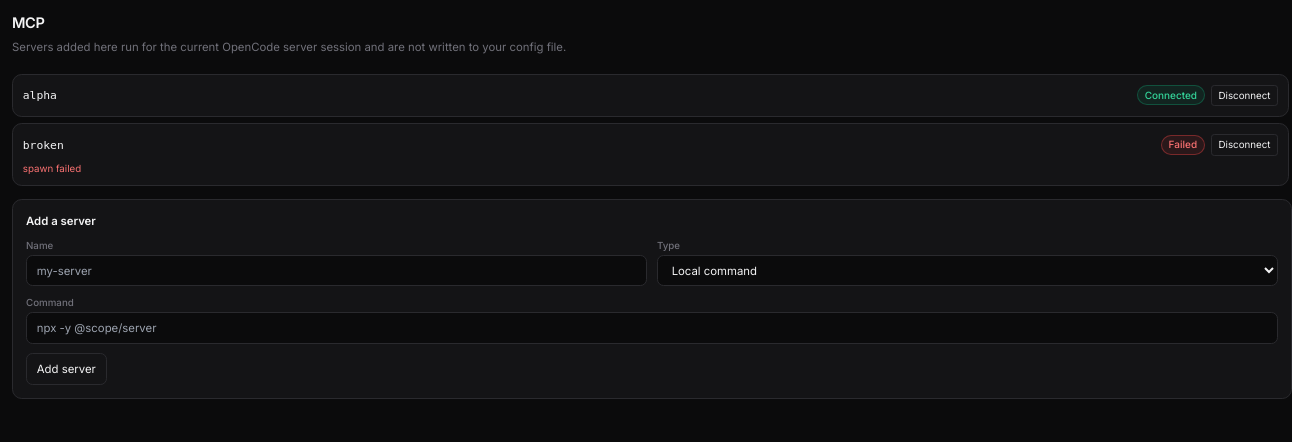
McpSection › shows an inline error when disconnect fails
Step 1. Click the button with test id "mcp-toggle" next to "Connected" → (1245, 95), box [1211, 84, 1278, 106]
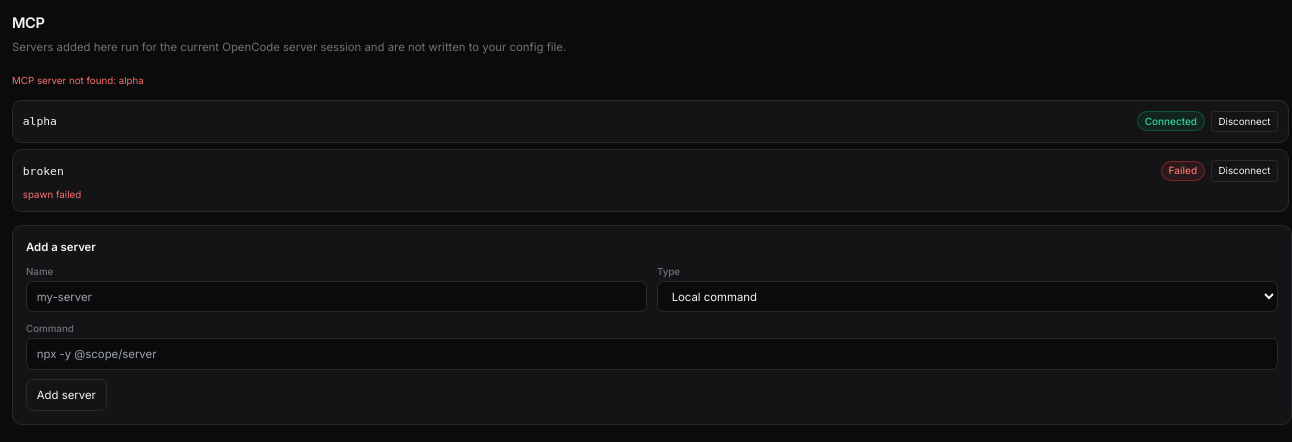
Expected: the message with test id "mcp-error" shows "not found", [12, 75, 144, 86]
